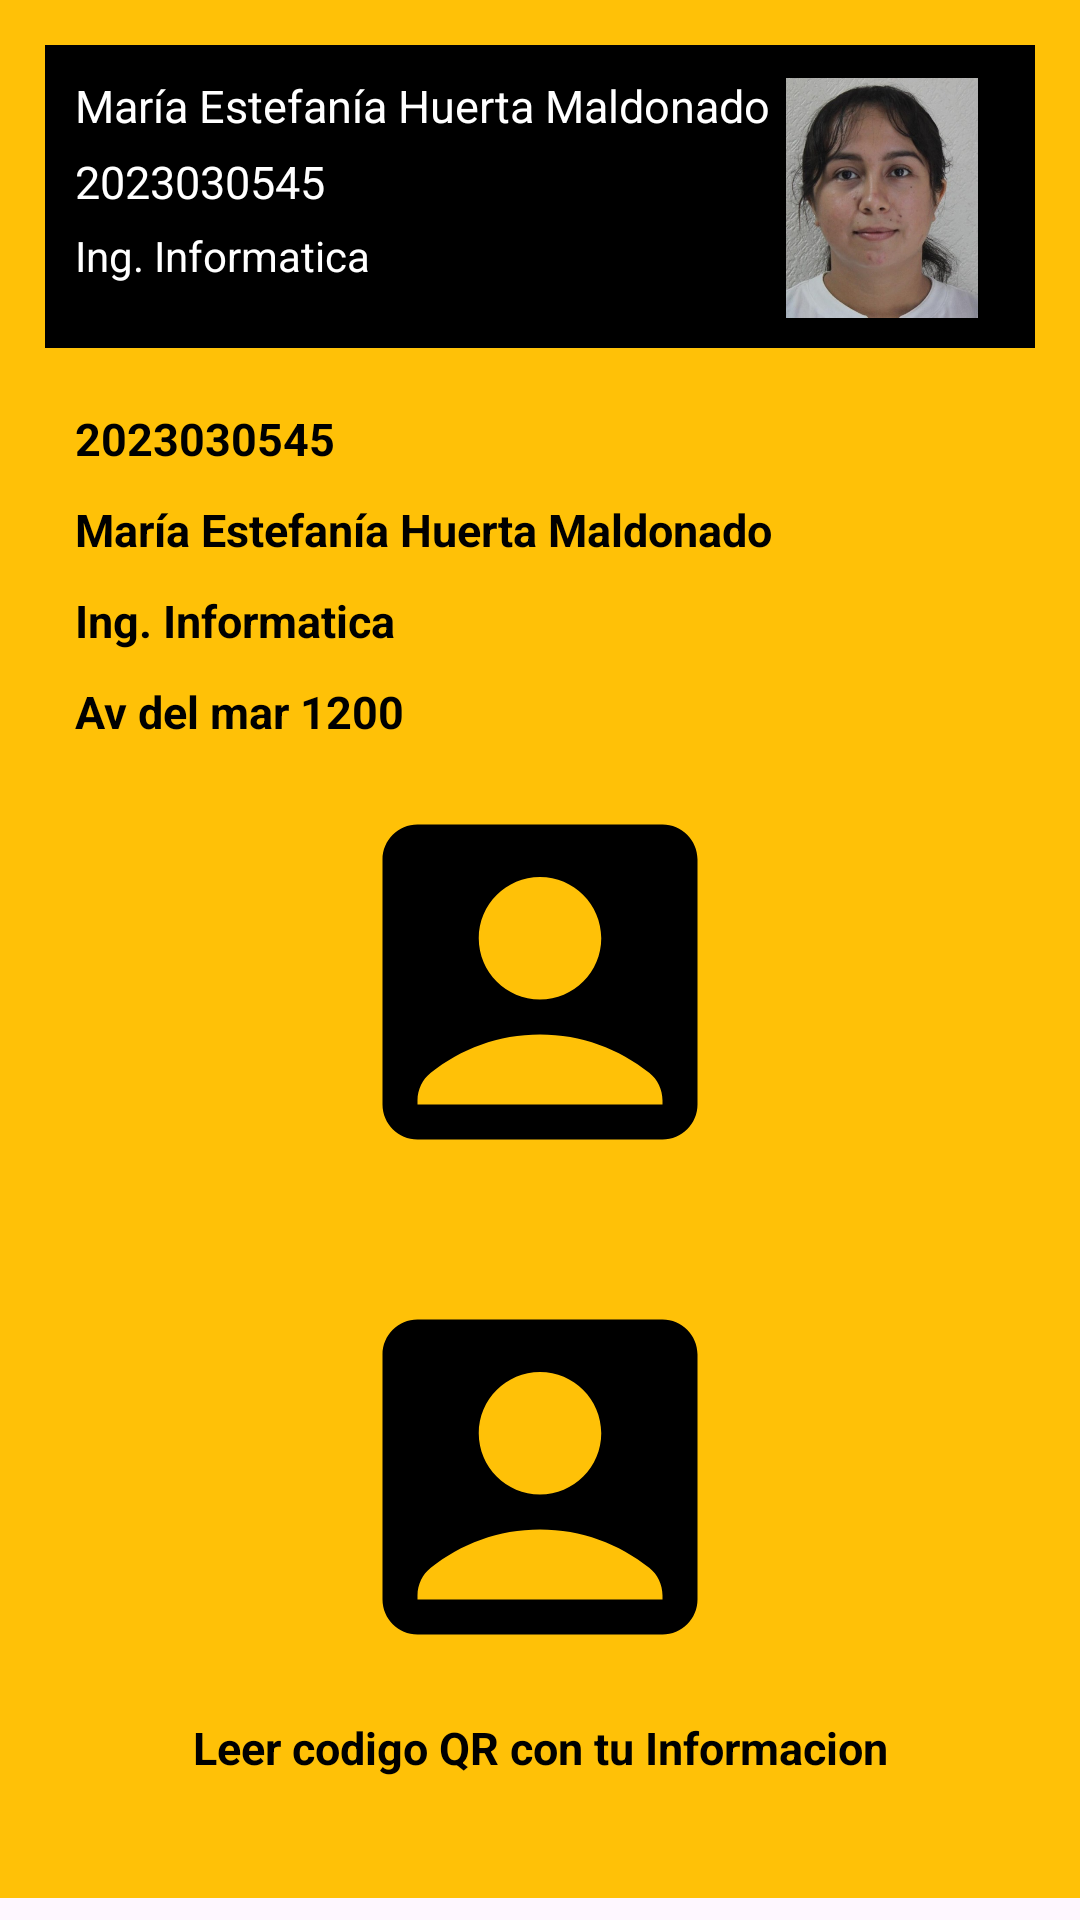

Icons on this 1080w x 1920h Android screen, each with the point to tap as (x=x, y=y):
alumnos: (x=540, y=982), (x=540, y=1477)
